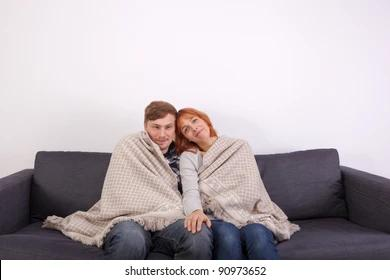blanket: (42, 129, 300, 244)
trousers: (104, 217, 213, 260), (213, 220, 280, 260)
